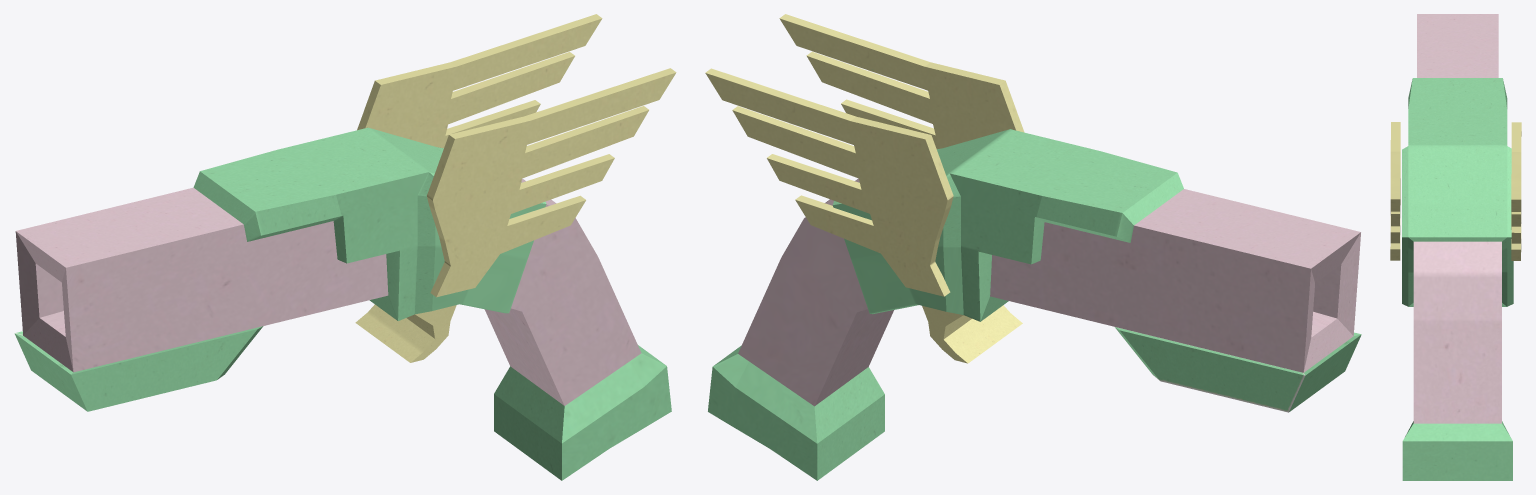
The model's file is gun fbx.fbx.
3 views of the same model, side by side, from view 1: azimuth 30°, elevation 25°; view 2: azimuth 150°, elevation 25°; view 3: azimuth 270°, elevation 25° (orthographic). The views are drawn at different scales.
Visible parts, largest first — view 1: polySurface9, polySurface6, pCube3, polySurface8, pCube4, polySurface7, polySurface10, polySurface4; view 2: polySurface9, polySurface6, pCube4, polySurface8, pCube3, polySurface7, polySurface10, polySurface4; view 3: polySurface6, polySurface8, polySurface7, polySurface9, pCube4, pCube3.
Part boxes in pixels (box(x1,y1,x2,y2)): polySurface9: box(15, 187, 388, 372); polySurface6: box(193, 127, 546, 320); pCube3: box(427, 68, 676, 297); polySurface8: box(484, 178, 641, 405); pCube4: box(357, 14, 602, 148); polySurface7: box(494, 345, 671, 480); polySurface10: box(14, 326, 263, 411); polySurface4: box(355, 304, 456, 362); polySurface9: box(990, 189, 1360, 372); polySurface6: box(832, 129, 1183, 321); pCube4: box(705, 68, 953, 296); polySurface8: box(738, 178, 893, 406); pCube3: box(779, 14, 1024, 149); polySurface7: box(708, 345, 884, 480); polySurface10: box(1115, 327, 1361, 412); polySurface4: box(922, 305, 1022, 363); polySurface6: box(1402, 78, 1513, 306); polySurface8: box(1413, 241, 1501, 423); polySurface7: box(1402, 421, 1512, 480); polySurface9: box(1417, 14, 1498, 77); pCube4: box(1511, 122, 1521, 260); pCube3: box(1390, 122, 1400, 260).
Bounding box in the file's own units: 9.36 × 5.81 × 2.19.
1 material, 1 textured.
